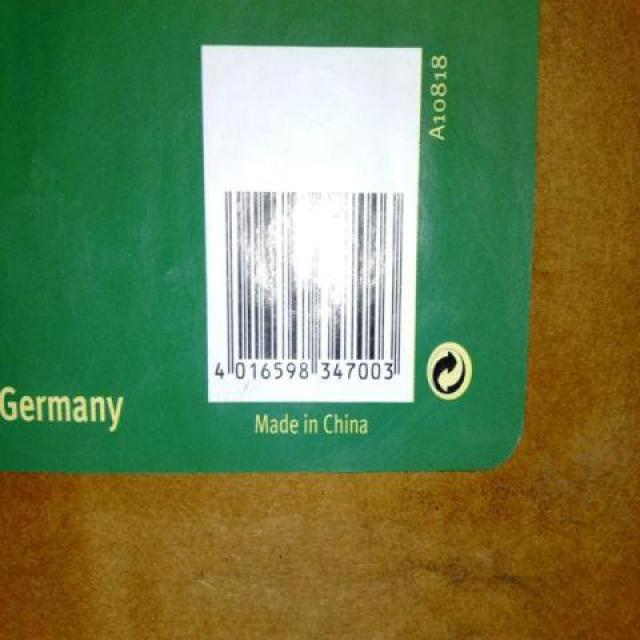Barcode: (207, 159, 413, 396)
